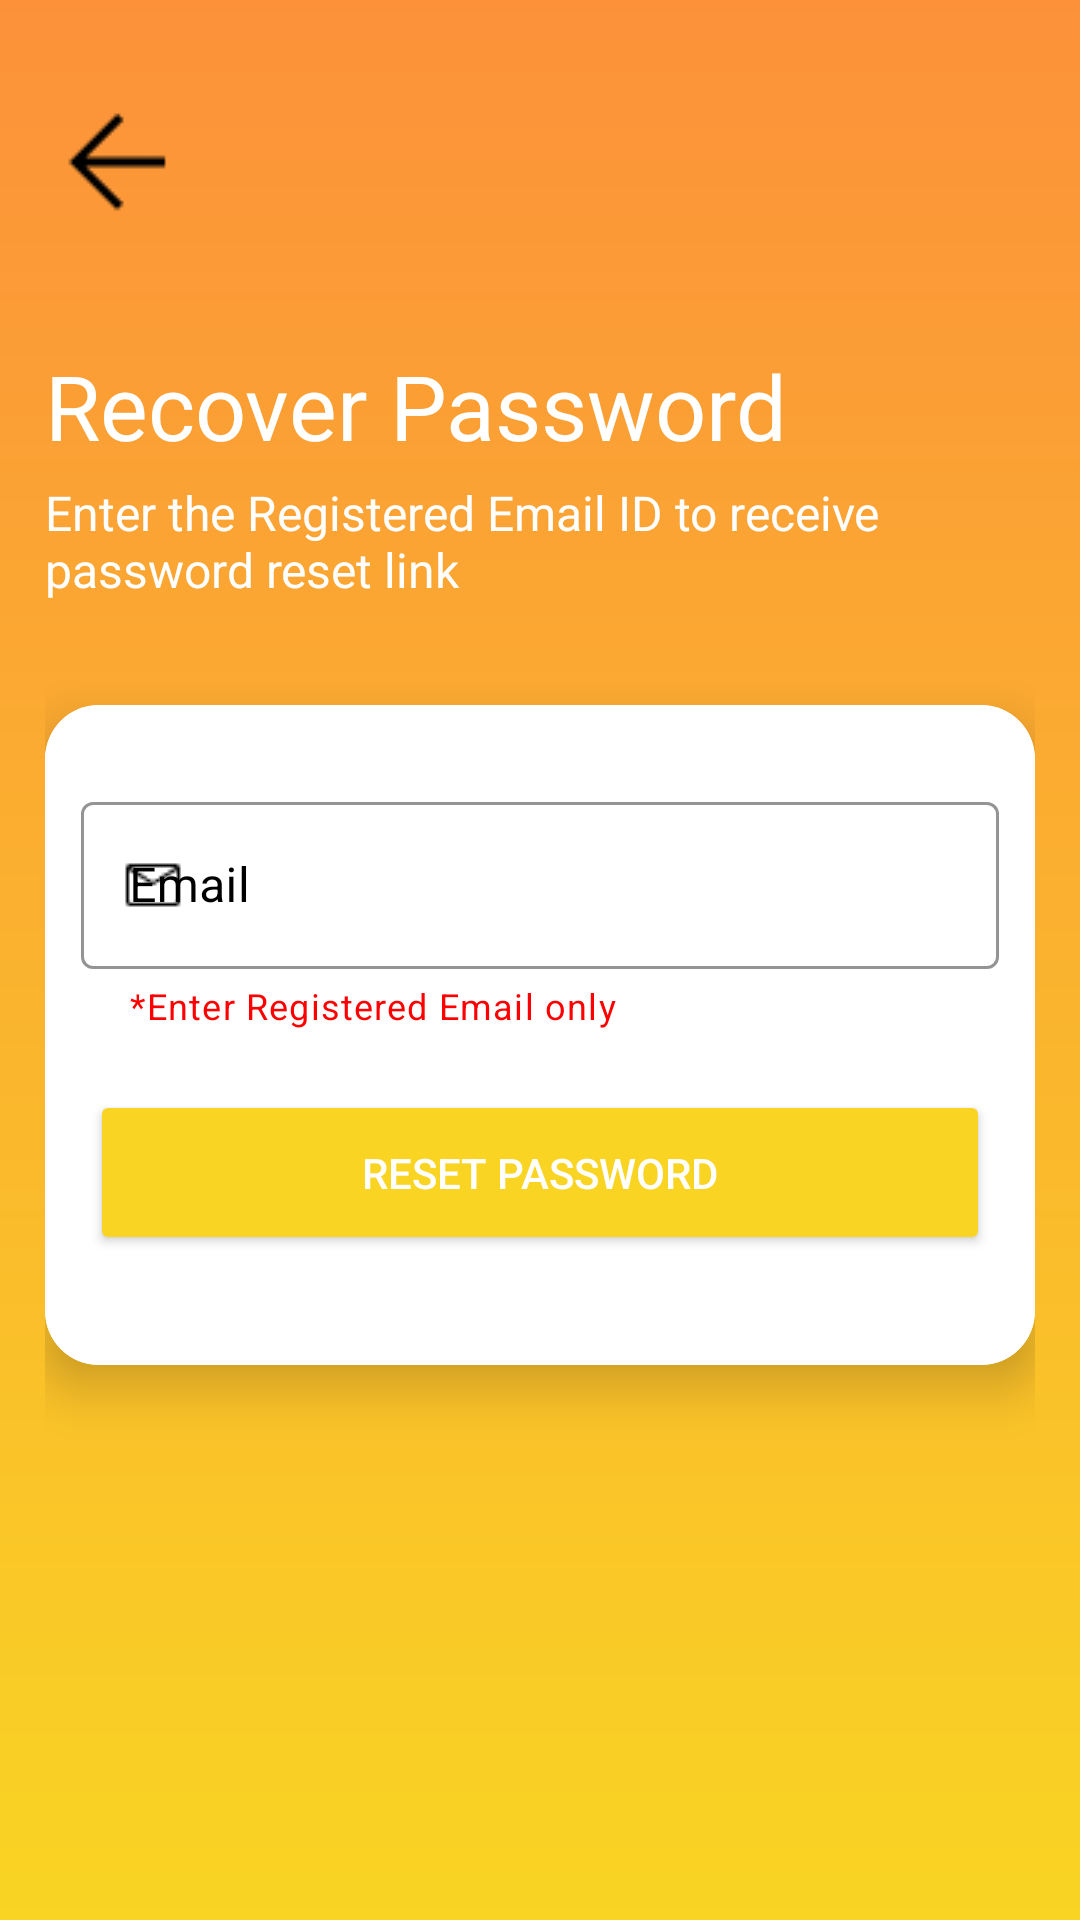

Where icons sit on this 1080x1920 app screen, as (x1, y1, x2, y2):
back arrow: (68, 113, 166, 211)
